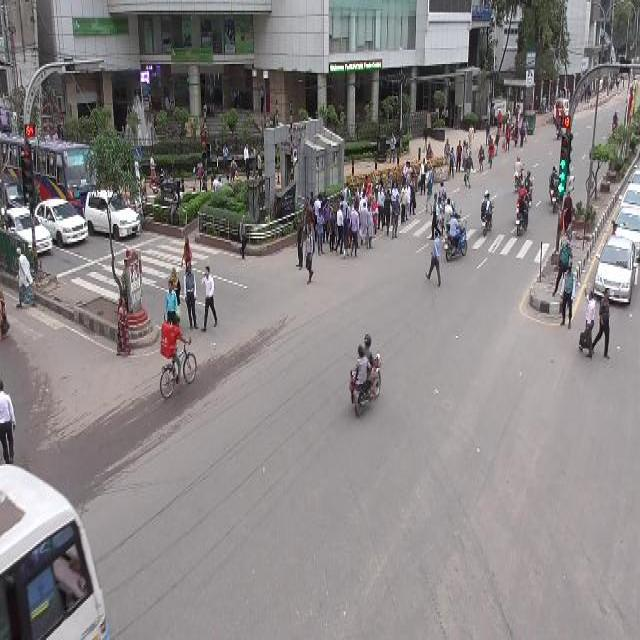10: (347, 331, 385, 423), (440, 215, 470, 265), (512, 188, 530, 238), (478, 196, 494, 238)
15: (85, 182, 142, 245)
5: (588, 228, 638, 305), (30, 195, 91, 249)
Motorcycle: (158, 324, 196, 398)
